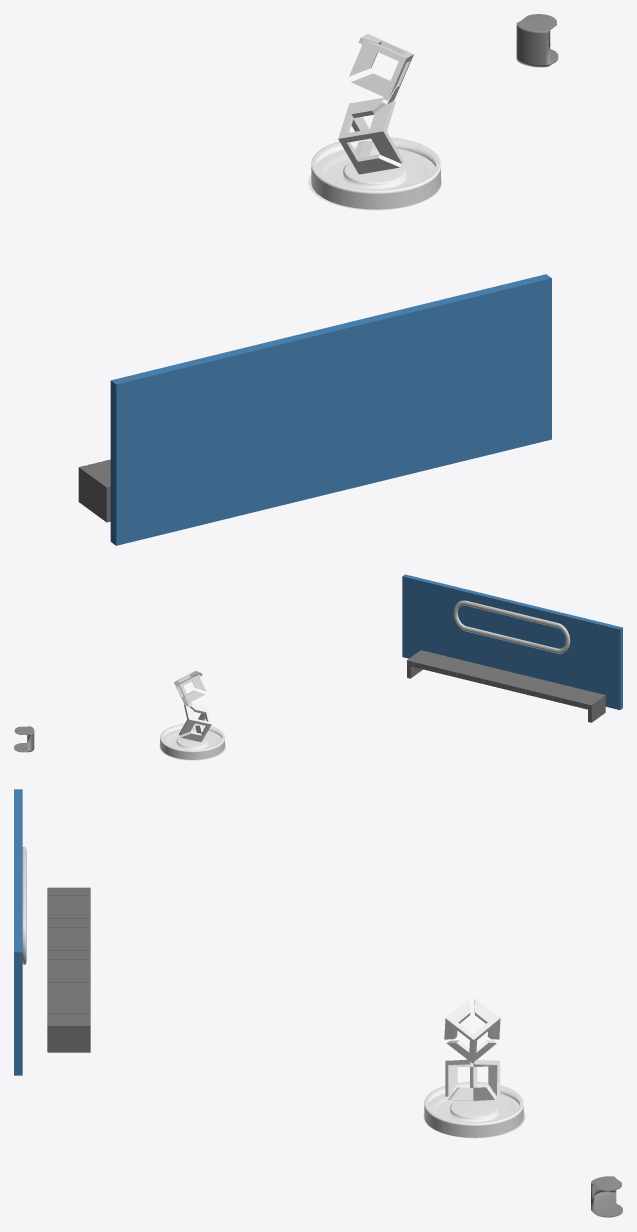
Rendered from theroomv2_test9_items.gltf.
3 renders of one model, top to bottom at view 1: azimuth 30°, elevation 25°; view 2: azimuth 150°, elevation 25°; view 3: azimuth 270°, elevation 25°, orthographic. The views are drawn at different scales.
Visible parts, largest first — view 1: Cube.021, Cylinder.080, Plane.004, Cylinder.033, Plane.015, Cylinder.025, Cube.167; view 2: Cube.021, Cube.167, Torus.001, Cylinder.080, Cylinder.033, Plane.004, Plane.015, Cylinder.025; view 3: Cube.167, Cube.021, Cylinder.080, Plane.015, Cylinder.033, Plane.004, Cylinder.025, Torus.001.
Part boxes in pixels (x1,y1,x2,y2): Cube.021: (110,274,551,545); Cylinder.080: (311,137,441,209); Plane.004: (338,98,403,174); Cylinder.033: (308,147,441,210); Plane.015: (349,34,413,104); Cylinder.025: (516,14,558,67); Cube.167: (78,459,110,522); Cube.021: (402,574,622,709); Cube.167: (407,650,605,722); Torus.001: (453,600,570,653); Cylinder.080: (160,723,224,759); Cylinder.033: (159,728,226,760); Plane.004: (179,703,211,741); Plane.015: (174,671,206,706); Cylinder.025: (14,726,34,752); Cube.167: (47,887,90,1052); Cube.021: (14,789,22,1075); Cylinder.080: (424,1082,523,1137); Plane.015: (444,998,500,1063); Cylinder.033: (423,1091,525,1138); Plane.004: (445,1059,500,1101); Cylinder.025: (591,1176,622,1217); Torus.001: (22,846,26,964).
Size of the model in its own units: 103 by 19.27 by 86.09.
